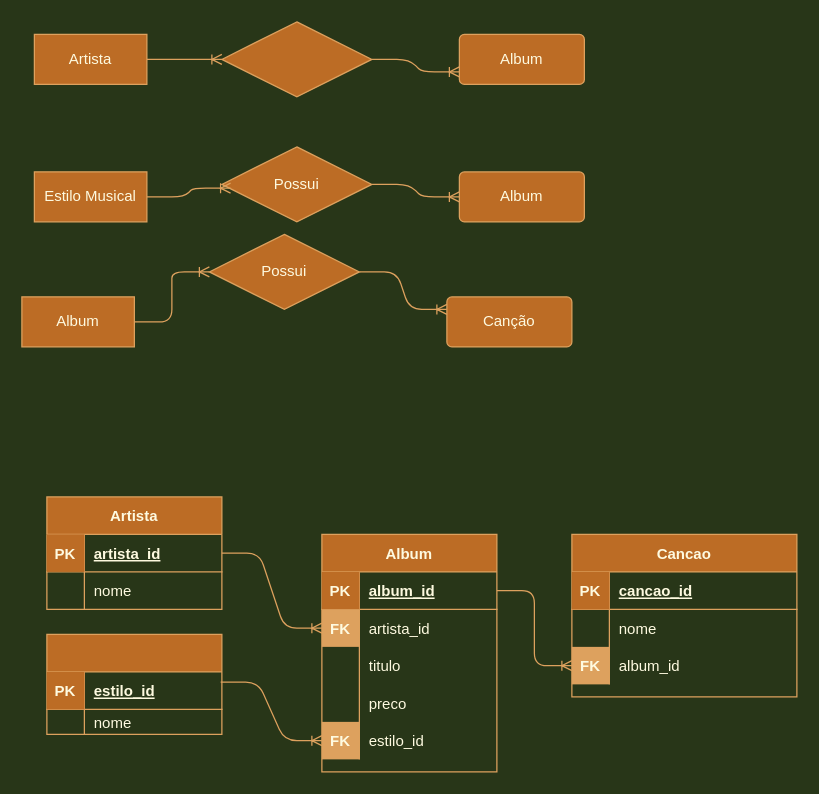
Some shapes in this 819 by 794 pixel diagram are drawn without their labels. Here are the shapes that lost their labels. From the top down, the box of each, then its label:
(221, 21, 372, 97): Produz
(46, 633, 222, 734): EstiloMusical
